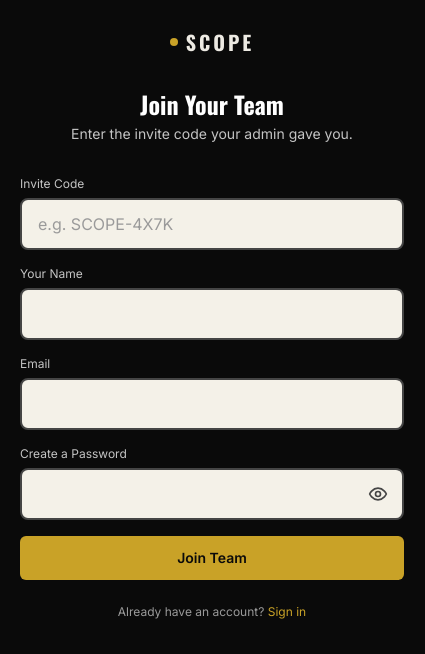
Test: Join (signup + invite code redemption) › falls back to a generic invite-code error if the RPC error has no message
Type "SCOPE-4X7K" into the field with placeholder "e.g. SCOPE-4X7K".
click(212, 224); type("SCOPE-4X7K")  # box [20, 198, 404, 250]
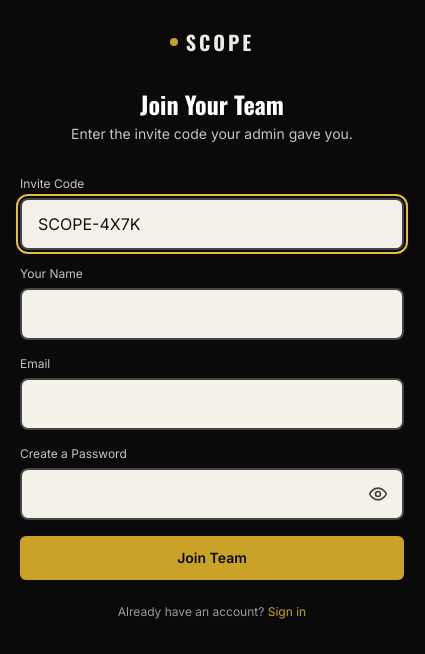
Type "Jamie Plumber" into the field below "Your Name".
click(212, 314); type("Jamie Plumber")  # box [20, 288, 404, 340]
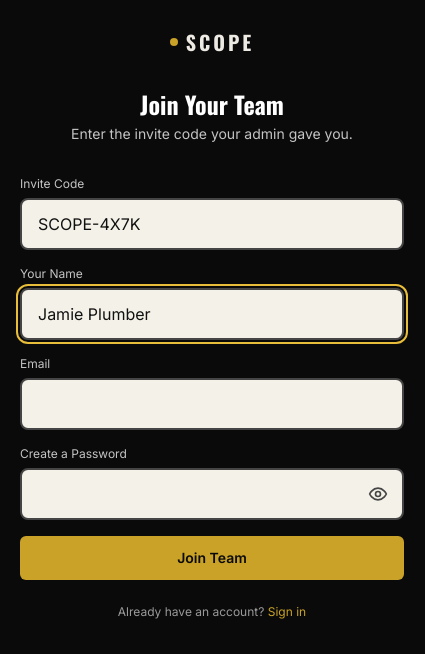
Type "jamie@scope.test" into the field below "Email".
click(212, 404); type("jamie@scope.test")  # box [20, 378, 404, 430]
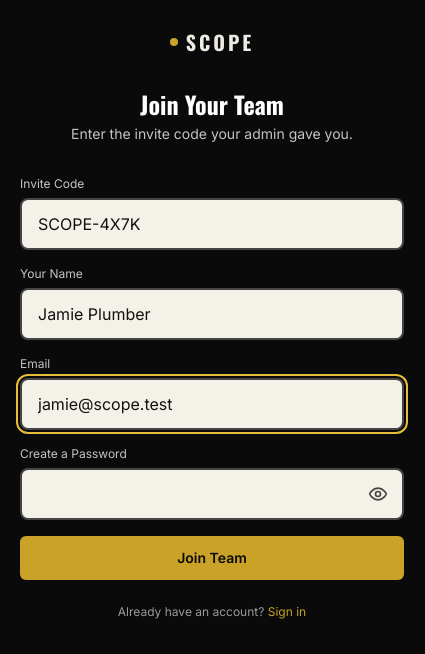
Type "hunter22" into the password field.
click(212, 494); type("hunter22")  # box [20, 468, 404, 520]
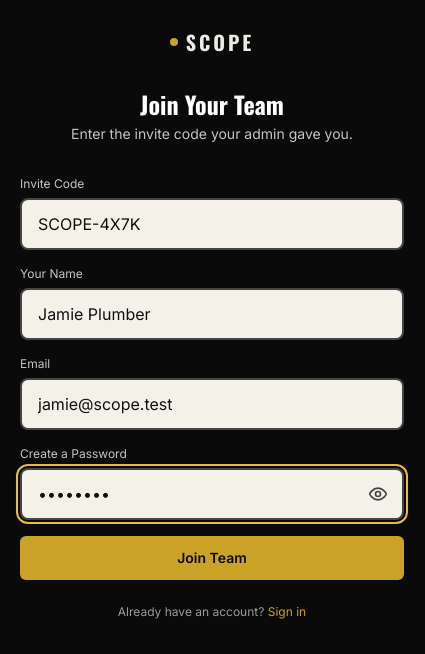
Click the button "Join Team".
click(212, 558)  # box [20, 536, 404, 580]
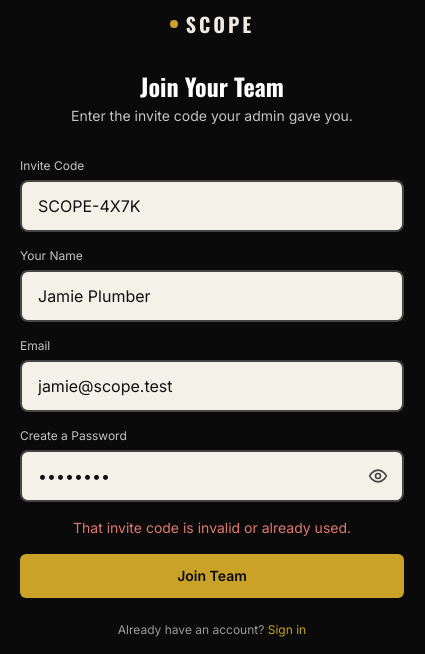
Expected: the text "That invite code is invalid or already used." is shown, [73, 519, 351, 536]
